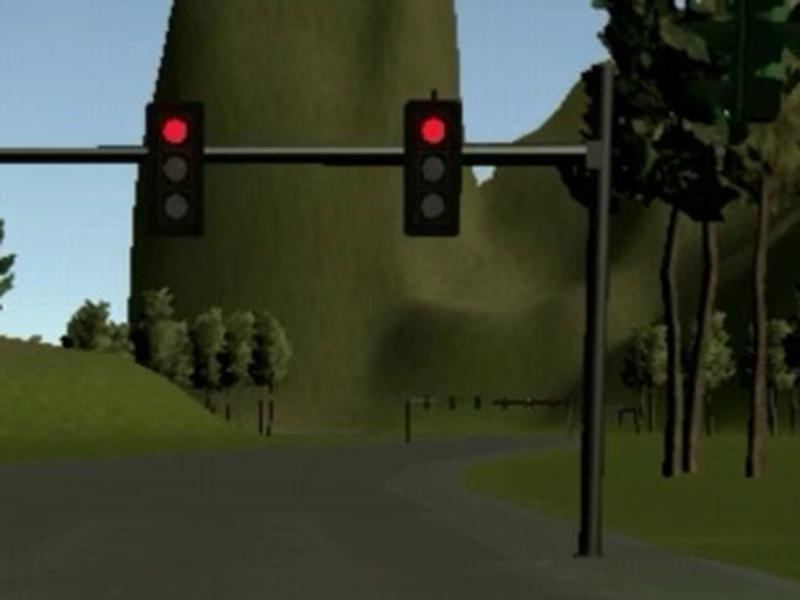Red: (149, 103, 203, 233), (407, 99, 458, 235)
